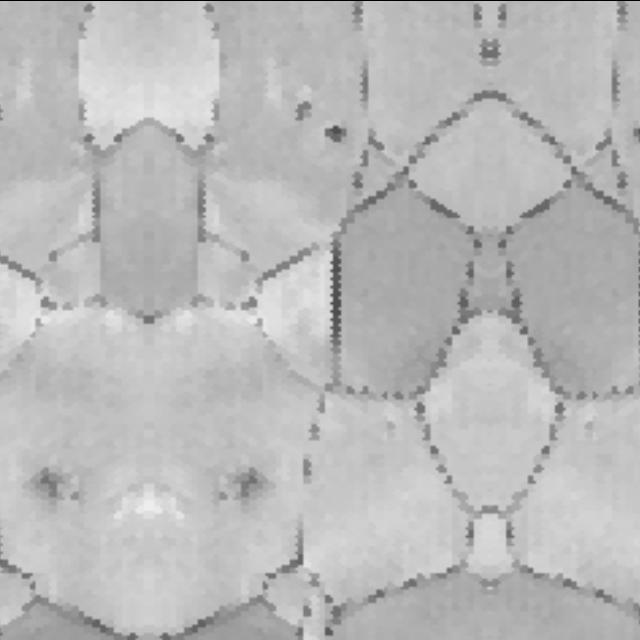good_void: (324, 236, 347, 356), (31, 463, 82, 504), (217, 463, 267, 504), (290, 98, 314, 127), (322, 121, 348, 146), (481, 42, 491, 64), (491, 42, 501, 64), (0, 100, 8, 124)
